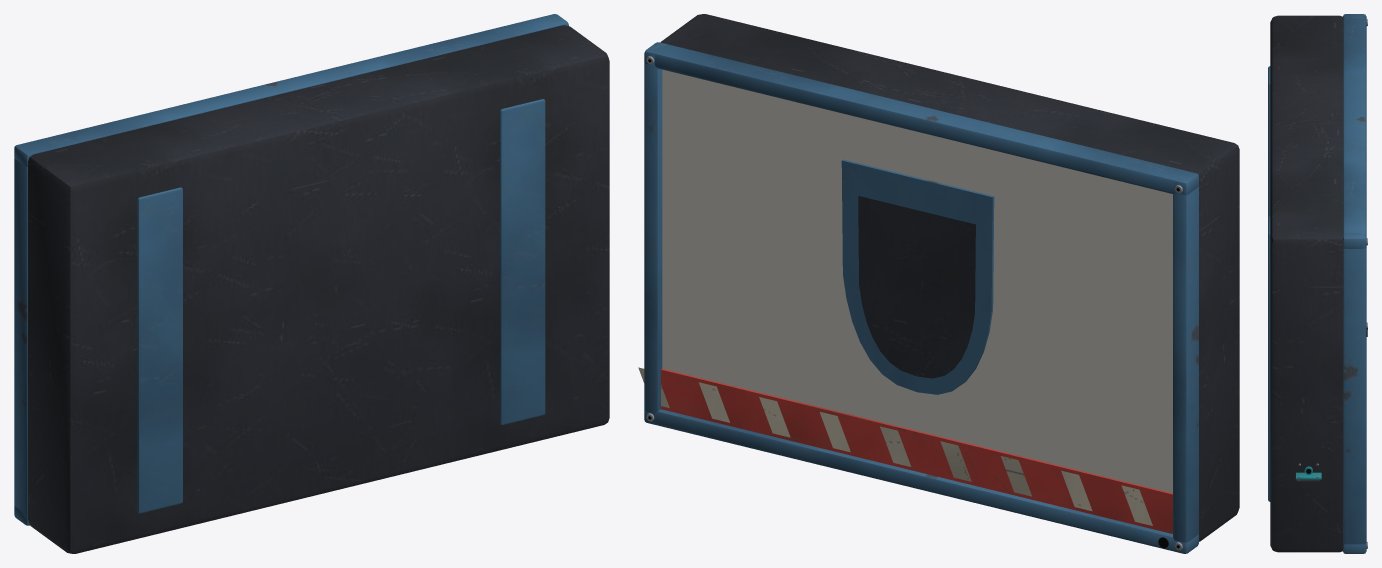
File: protector_sign.glb
3 renders of one model, left to right at view 1: azimuth 30°, elevation 25°; view 2: azimuth 150°, elevation 25°; view 3: azimuth 270°, elevation 25°, orthographic. The views are drawn at different scales.
Parts seen in each view (by area): view 1: Body; view 2: Body; view 3: Body.
Part boxes in pixels (x1,y1,x2,y2): Body: (14,14,609,553); Body: (638,14,1239,553); Body: (1268,14,1367,553).
Size of the model in its own units: 0.7367 by 0.472 by 0.135.
10 materials, 5 textured.
